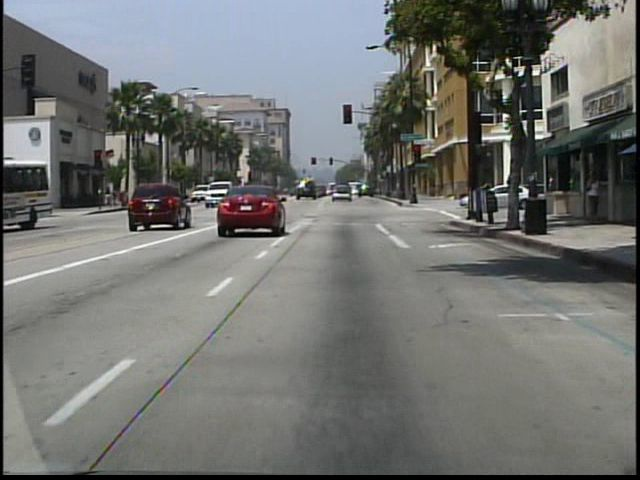person: (581, 168, 604, 227)
